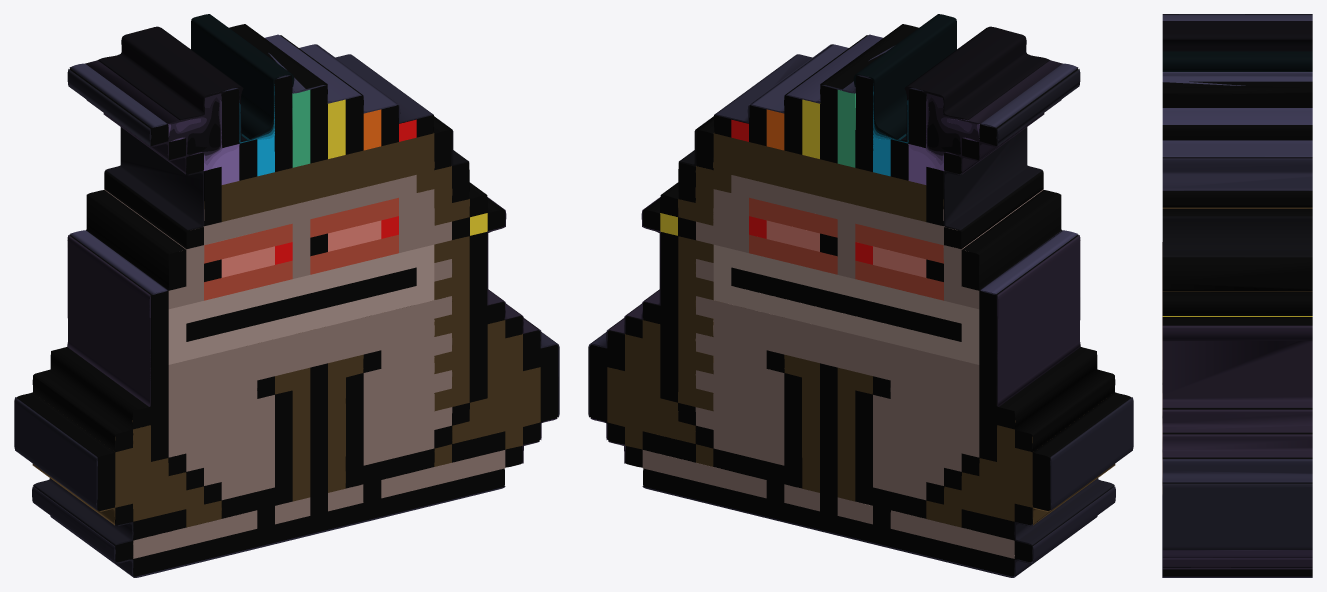
Rendered from Toadz_666.glb.
3 renders of one model, left to right at view 1: azimuth 30°, elevation 25°; view 2: azimuth 150°, elevation 25°; view 3: azimuth 270°, elevation 25°, orthographic. The views are drawn at different scales.
Visible parts, largest first — view 1: Curve; view 2: Curve; view 3: Curve.
Boxes of the visible parts, x1,y1,x2,y2 form: Curve: (14, 14, 559, 577); Curve: (588, 14, 1133, 577); Curve: (1162, 14, 1312, 577).
Size of the model in its own units: 3.25 by 3.13 by 1.
